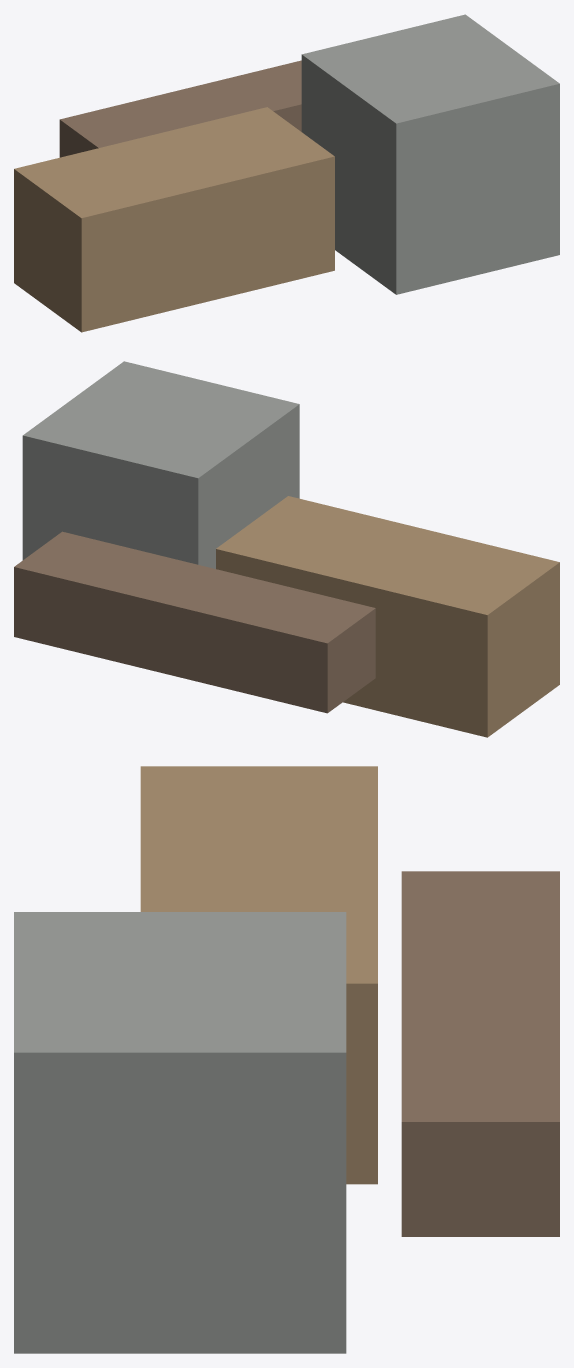
The model's file is loot_salvage_bundle_m201.glb.
3 renders of one model, top to bottom at view 1: azimuth 30°, elevation 25°; view 2: azimuth 150°, elevation 25°; view 3: azimuth 270°, elevation 25°, orthographic. The views are drawn at different scales.
Parts seen in each view (by area): view 1: Salvage1, Salvage0, Salvage2; view 2: Salvage0, Salvage1, Salvage2; view 3: Salvage1, Salvage2, Salvage0.
Boxes of the visible parts, x1,y1,x2,y2 form: Salvage1: (301,14,559,294); Salvage0: (14,107,334,332); Salvage2: (59,60,301,157); Salvage0: (216,496,559,737); Salvage1: (22,361,299,568); Salvage2: (14,531,375,713); Salvage1: (14,912,346,1353); Salvage2: (401,871,559,1236); Salvage0: (140,766,377,1184).
Bounding box in the file's own units: 1.13 × 0.42 × 0.69.
